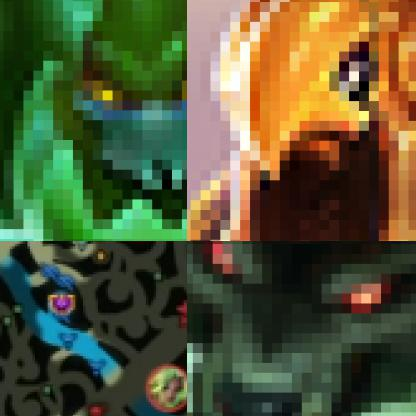Azir: (187, 0, 415, 240)
Warwick: (187, 241, 415, 415)
Zac: (0, 0, 186, 240)
Zeri: (145, 365, 186, 414)
